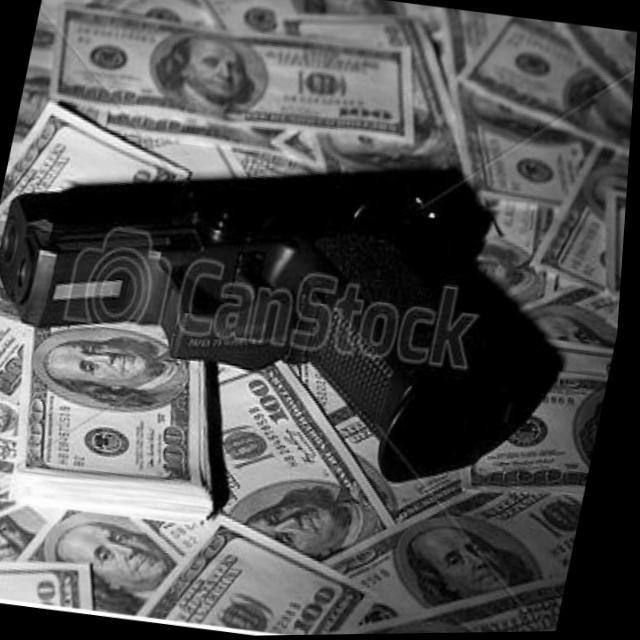weapon: (0, 103, 607, 512)
